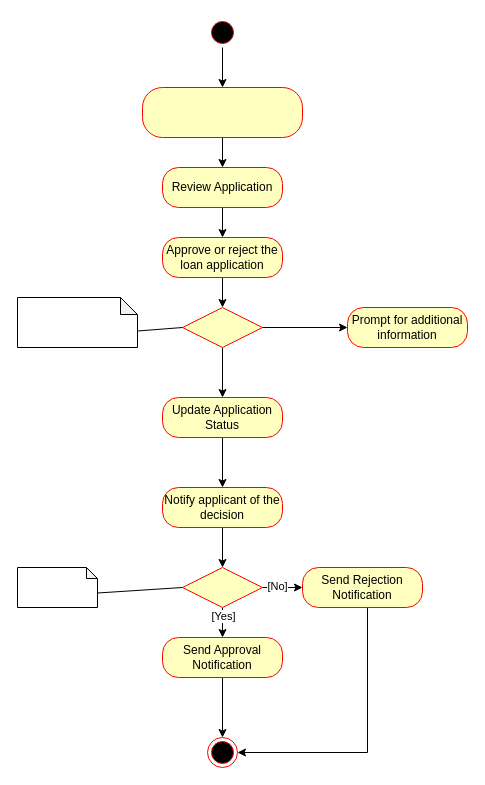
Some shapes in this 485 by 785 pixel diagram are drawn without their labels. The box of each missing label's shape, as (x1, y1, x2, y2) in pixels:
Additional information required?: (16, 296, 138, 348)
Application approved?: (16, 566, 98, 608)
Loan Approval Authority retrieve applicant's eligibility status: (142, 86, 302, 138)
